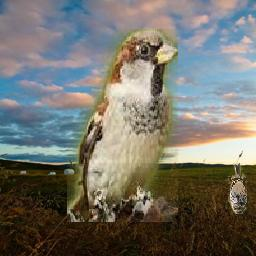Sparrow: (68, 30, 179, 223), (229, 164, 248, 215)
